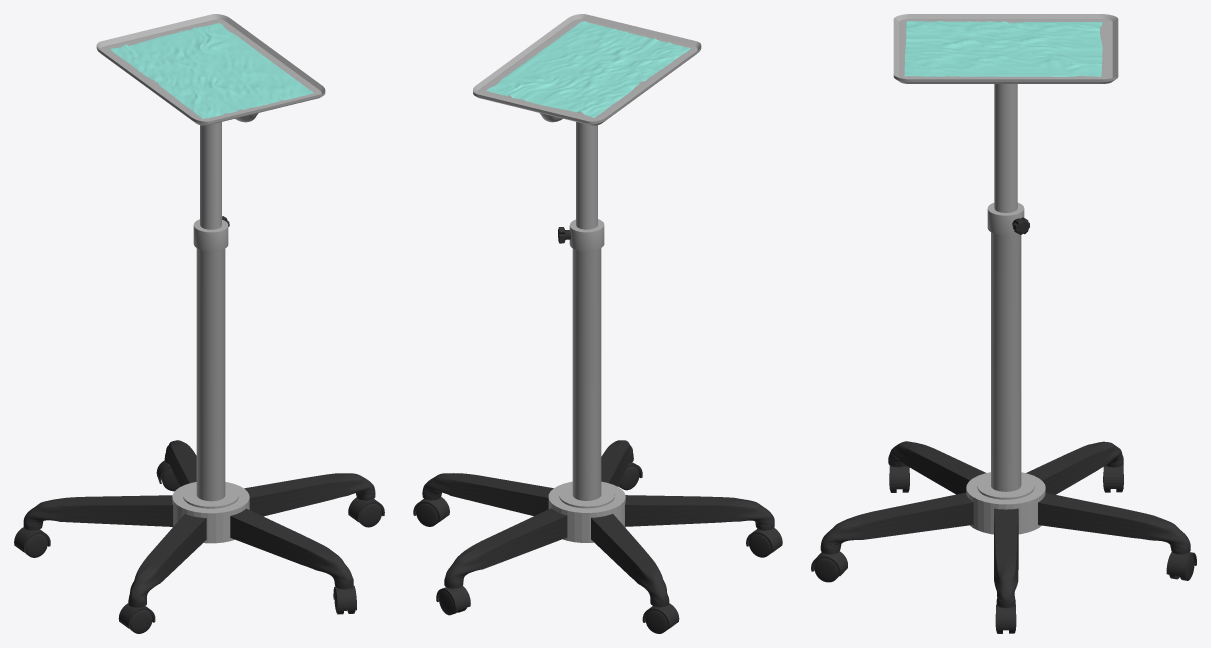
Rendered from Instrument_Table.dae.
The picture shows the model from 3 angles, left to right: view 1: azimuth 30°, elevation 25°; view 2: azimuth 150°, elevation 25°; view 3: azimuth 270°, elevation 25°; orthographic projection. The views are drawn at different scales.
Visible parts, largest first — view 1: Cloth, Lower Shaft, Plate, Leg.002, Leg.004, Leg, Leg.003, Base, Upper Shaft, Leg.001, Wheel.001, Wheel.004 (+2 smaller); view 2: Cloth, Lower Shaft, Plate, Leg.003, Leg.001, Leg, Leg.002, Base, Upper Shaft, Leg.004, Wheel.002, Wheel.001 (+2 smaller); view 3: Cloth, Lower Shaft, Plate, Leg.004, Leg.001, Upper Shaft, Base, Leg.003, Leg.002, Leg, Wheel, Wheel.003 (+2 smaller).
Part boxes in pixels (<box>): Cloth: <box>110,23,313,119</box>; Lower Shaft: <box>193,219,228,501</box>; Plate: <box>96,14,325,125</box>; Leg.002: <box>23,495,173,530</box>; Leg.004: <box>230,508,353,589</box>; Leg: <box>244,473,375,516</box>; Leg.003: <box>128,514,206,607</box>; Base: <box>172,482,249,543</box>; Upper Shaft: <box>200,113,258,229</box>; Leg.001: <box>164,440,196,486</box>; Wheel.001: <box>14,527,50,557</box>; Wheel.004: <box>348,497,384,527</box>; Cloth: <box>486,21,690,117</box>; Lower Shaft: <box>569,219,604,500</box>; Plate: <box>473,14,701,125</box>; Leg.003: <box>625,495,774,530</box>; Leg.001: <box>444,508,567,588</box>; Leg: <box>422,473,553,515</box>; Leg.002: <box>591,513,669,607</box>; Base: <box>548,481,625,542</box>; Upper Shaft: <box>539,113,597,229</box>; Leg.004: <box>601,440,633,486</box>; Wheel.002: <box>746,528,782,557</box>; Wheel.001: <box>642,603,679,633</box>; Cloth: <box>904,21,1102,76</box>; Lower Shaft: <box>987,203,1024,491</box>; Plate: <box>893,14,1118,83</box>; Leg.004: <box>820,492,973,554</box>; Leg.001: <box>1038,493,1190,554</box>; Upper Shaft: <box>994,84,1017,212</box>; Base: <box>966,472,1045,534</box>; Leg.003: <box>888,441,985,494</box>; Leg.002: <box>1026,441,1123,494</box>; Leg: <box>994,508,1018,607</box>; Wheel: <box>811,551,847,582</box>; Wheel.003: <box>1166,552,1196,580</box>.
Size of the model in its own units: 0.5307 by 0.5593 by 0.8121.
